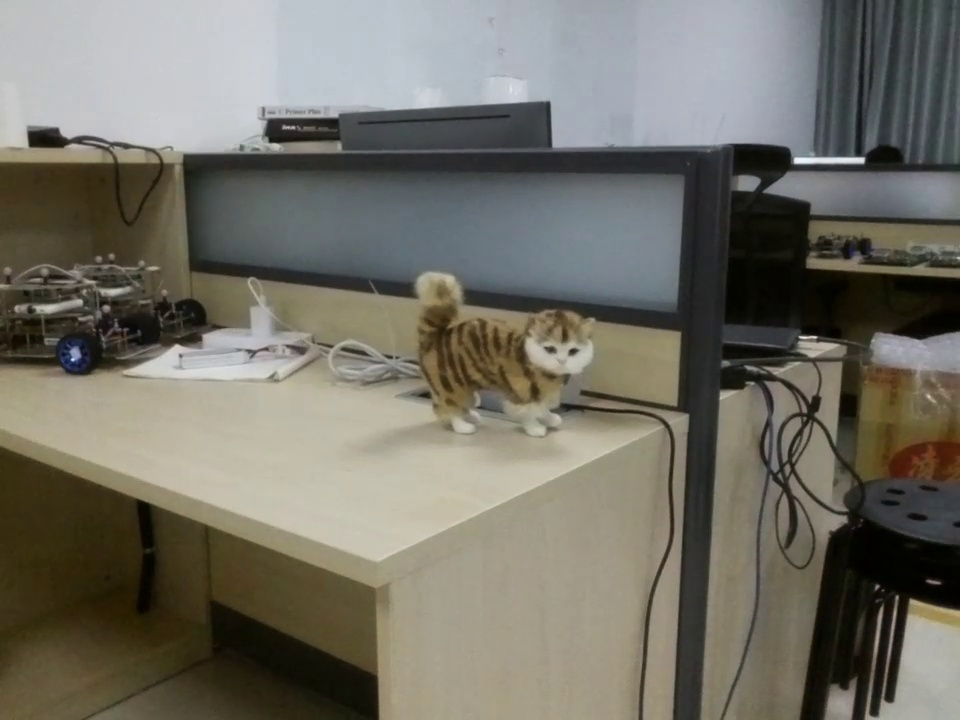cat: (402, 265, 604, 445)
